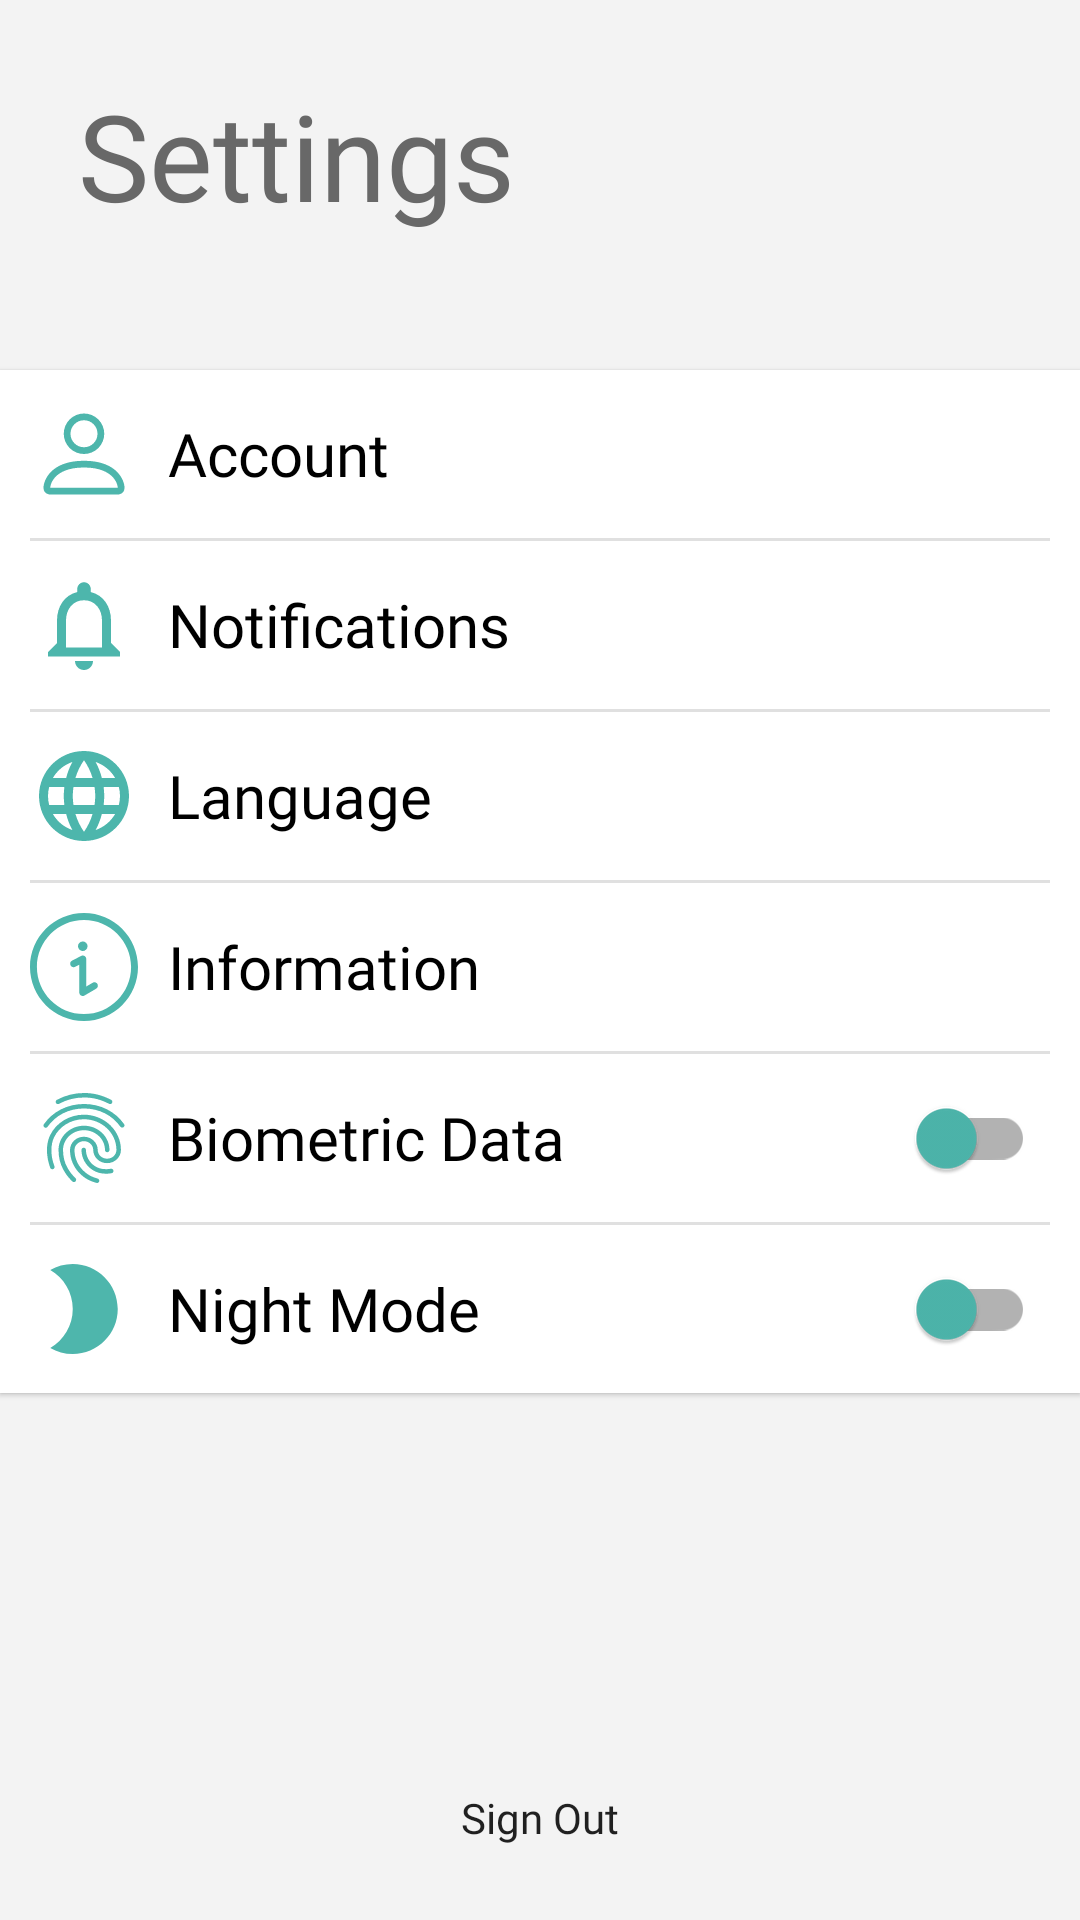

Icon click points for this 1080 × 1920 phone screenshot, format (x,y):
biometric settings: (84,1138)
